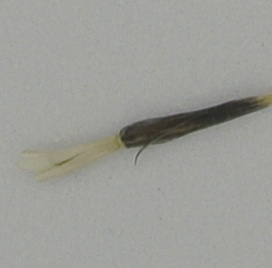เมล้ดปลายพู่กัน: (12, 90, 272, 187)
